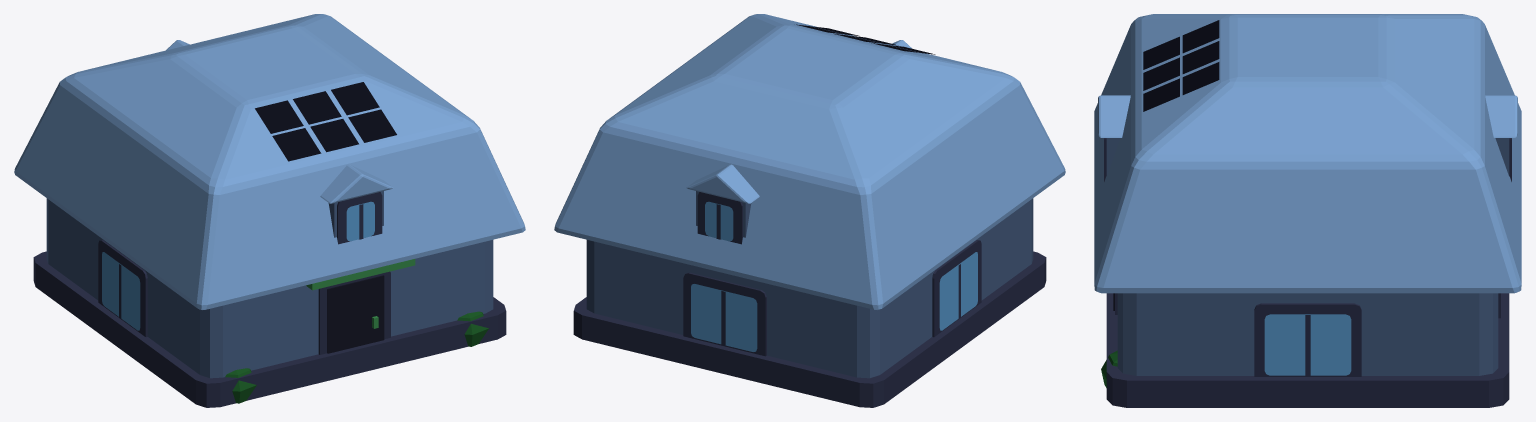
File: house-1x1-1f-mansard-b-solar.glb
3 renders of one model, left to right at view 1: azimuth 30°, elevation 25°; view 2: azimuth 150°, elevation 25°; view 3: azimuth 270°, elevation 25°, orthographic. The views are drawn at different scales.
Parts seen in each view (by area): view 1: house-1x1-1f-mansard-b-solar; view 2: house-1x1-1f-mansard-b-solar; view 3: house-1x1-1f-mansard-b-solar.
Boxes of the visible parts, box(x1,y1,x2,y2) form: house-1x1-1f-mansard-b-solar: box(14, 14, 525, 407); house-1x1-1f-mansard-b-solar: box(554, 14, 1065, 407); house-1x1-1f-mansard-b-solar: box(1094, 14, 1521, 407).
Bounding box in the file's own units: 0.9876 × 0.7026 × 0.9876.
Materials: 1 (1 with a texture image).
